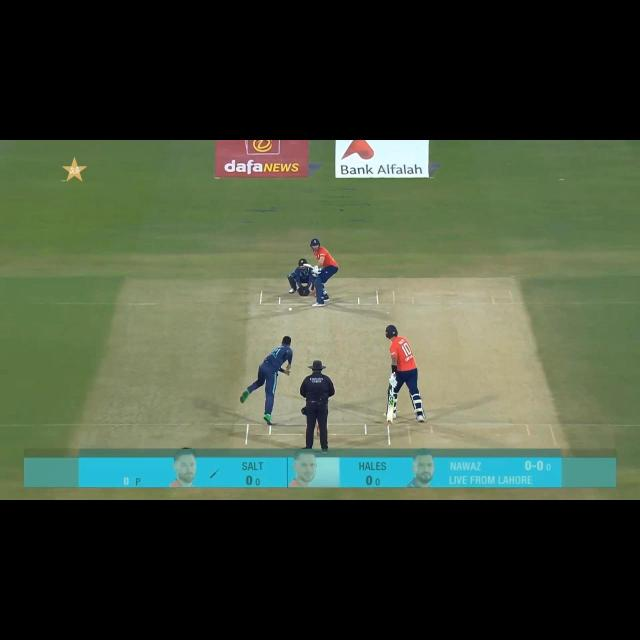bat: (387, 396, 394, 424), (302, 262, 314, 270)
toe: (386, 419, 392, 425), (302, 264, 309, 268)
